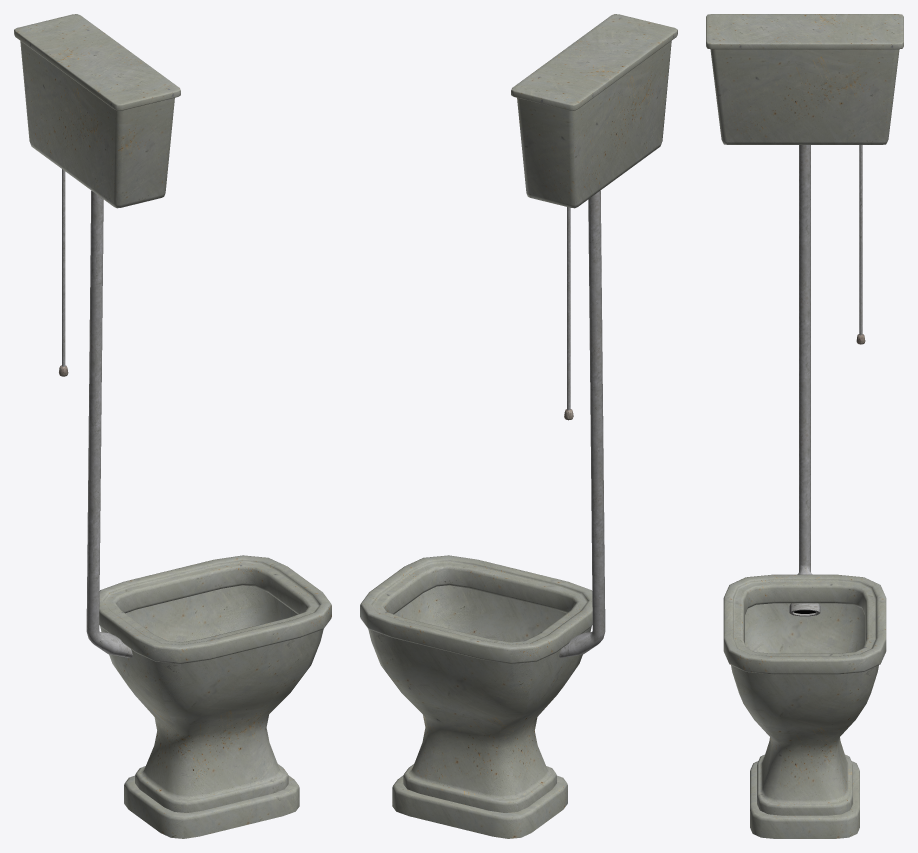
File: Toilet.FBX
3 views of the same model, side by side, from view 1: azimuth 30°, elevation 25°; view 2: azimuth 150°, elevation 25°; view 3: azimuth 270°, elevation 25° (orthographic). The views are drawn at different scales.
Visible parts, largest first — view 1: Toilet; view 2: Toilet; view 3: Toilet.
Boxes of the visible parts, box(x1,y1,x2,y2) form: Toilet: box(14, 14, 331, 838); Toilet: box(360, 14, 677, 838); Toilet: box(706, 14, 903, 838).
Bounding box in the file's own units: 93.11 × 286 × 70.41.
